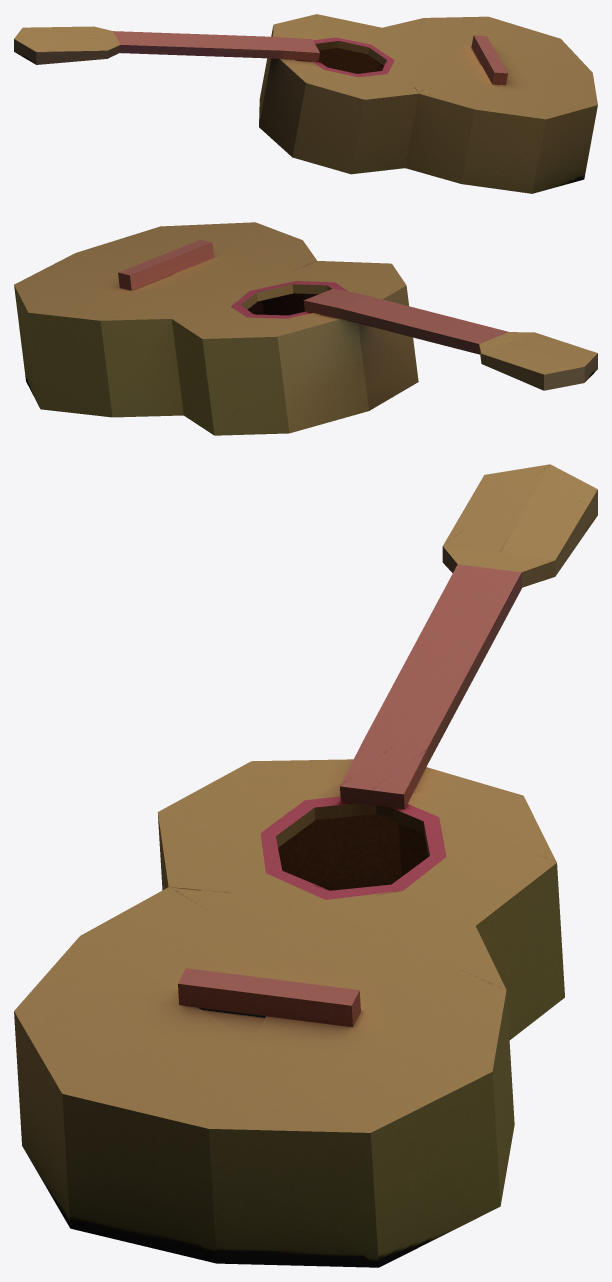
The model's file is guitar.gltf.
3 views of the same model, one above another, from view 1: azimuth 30°, elevation 25°; view 2: azimuth 150°, elevation 25°; view 3: azimuth 270°, elevation 25° (orthographic). The views are drawn at different scales.
Visible parts, largest first — view 1: Guitar; view 2: Guitar; view 3: Guitar.
Part boxes in pixels (<box>): Guitar: <box>14,14,597,193</box>; Guitar: <box>14,222,597,435</box>; Guitar: <box>14,464,597,1267</box>.
Size of the model in its own units: 1.93 by 0.6048 by 0.9715.
Materials: 1 (1 with a texture image).
